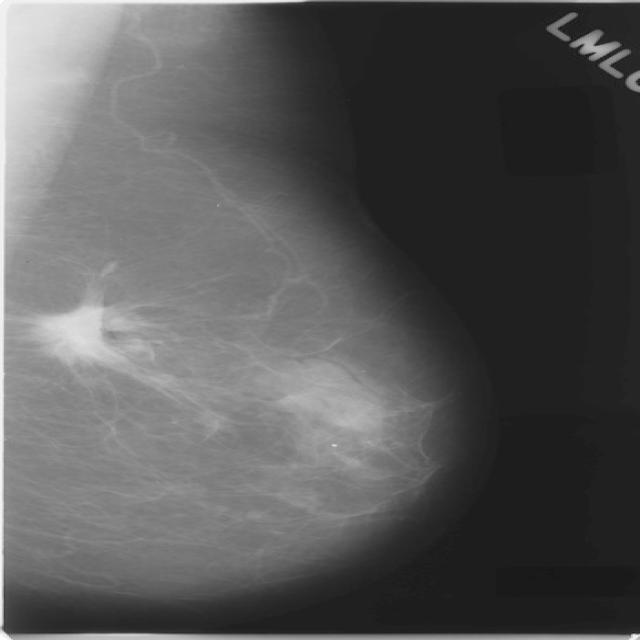tumour: (31, 293, 137, 368)
